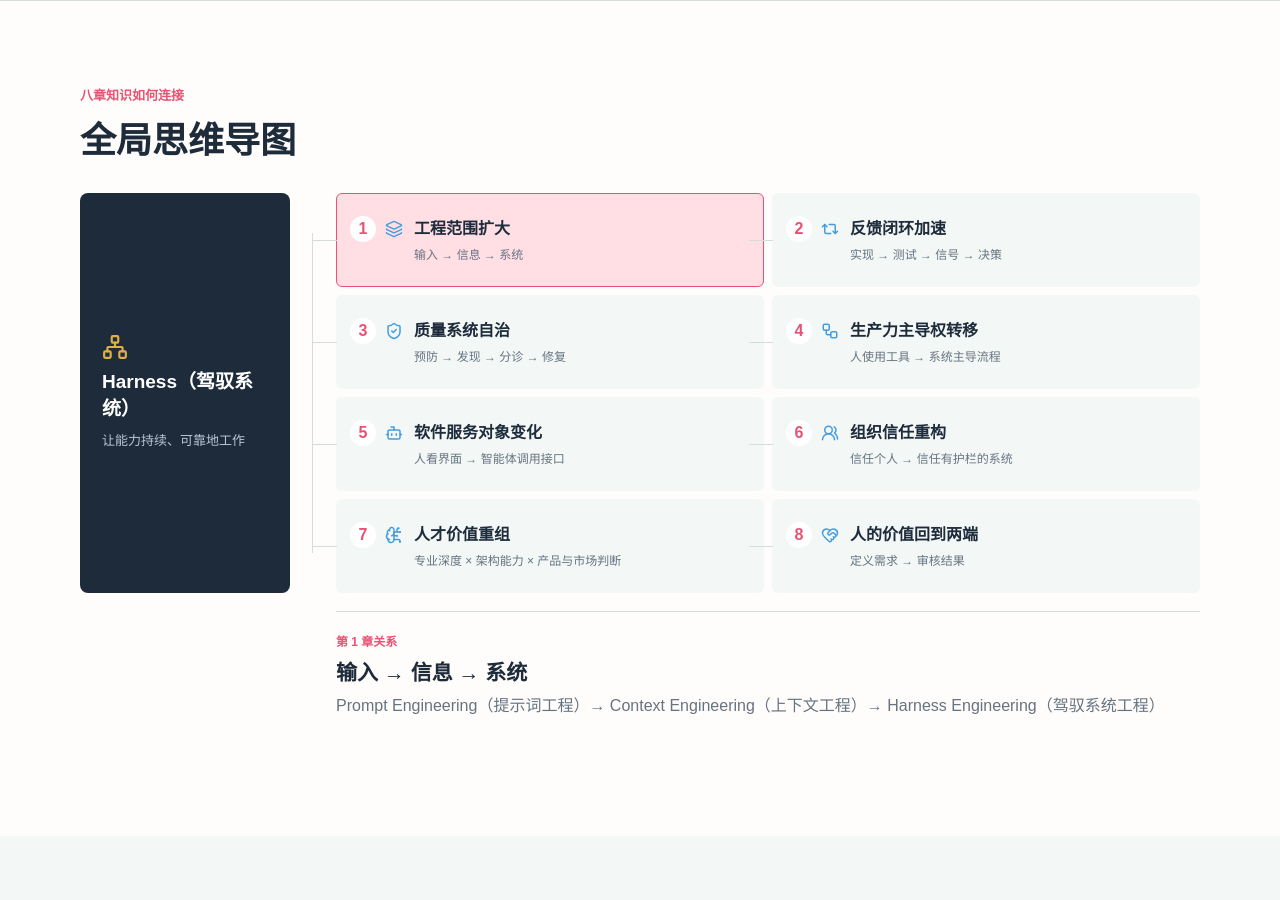
KnowledgeMap › connects all eight chapters and reveals the selected relationship
Expected: the heading "全局思维导图" is shown, x1=80 y1=120 x2=296 y2=161
Click the button with aria-label "查看第 7 章" at (462, 535), box x1=336 y1=499 x2=764 y2=593
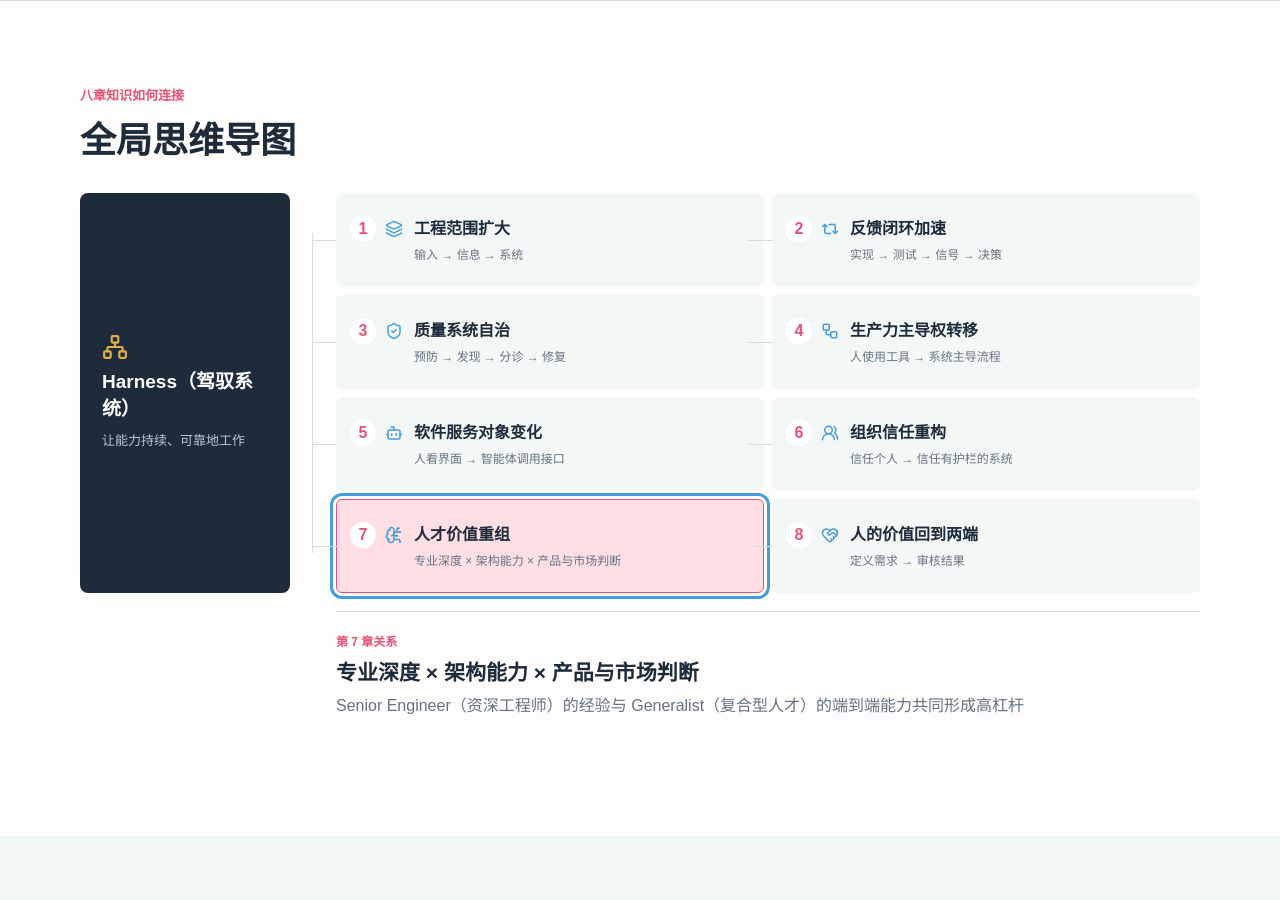
Expected: the heading "专业深度 × 架构能力 × 产品与市场判断" is shown, x1=336 y1=661 x2=699 y2=684
